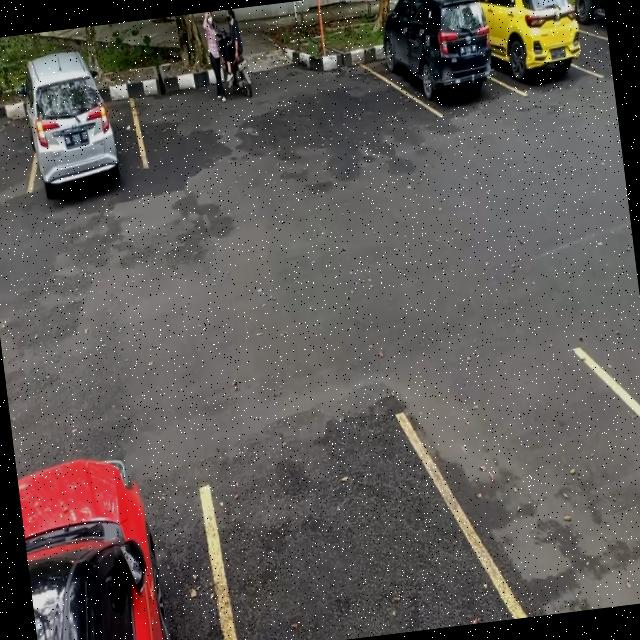empty: (193, 408, 467, 640), (435, 333, 640, 624)
occupied: (16, 68, 148, 203), (374, 0, 501, 122), (482, 0, 589, 98)
